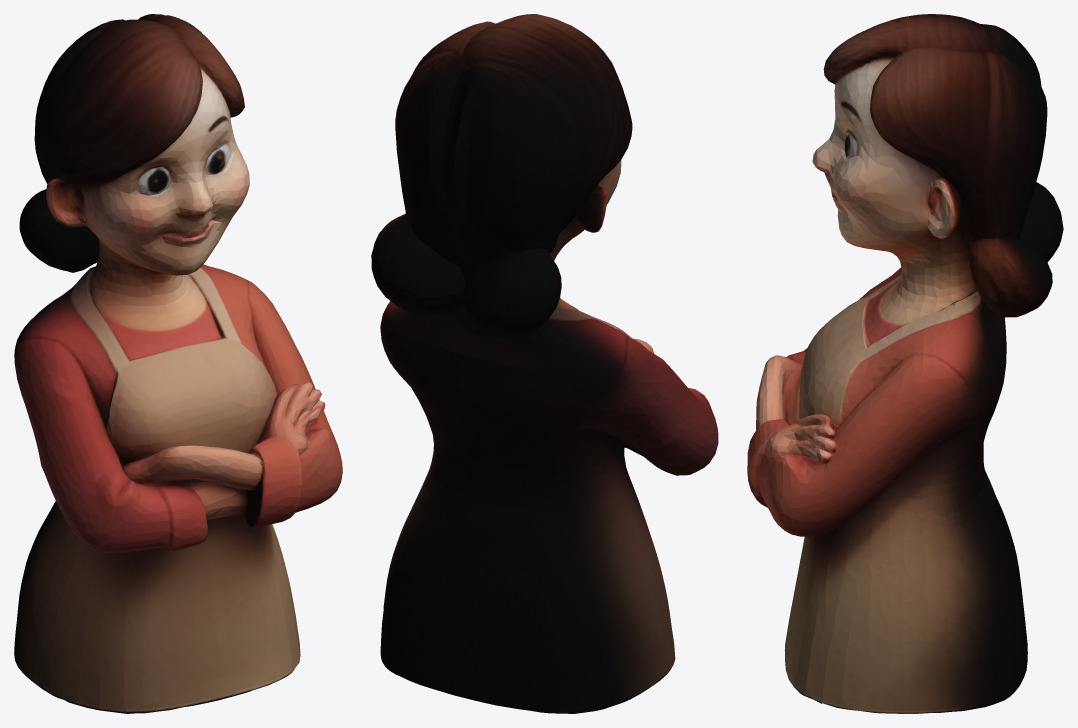
File: ima.glb
3 renders of one model, left to right at view 1: azimuth 30°, elevation 25°; view 2: azimuth 150°, elevation 25°; view 3: azimuth 270°, elevation 25°, orthographic. The views are drawn at different scales.
Visible parts, largest first — view 1: world; view 2: world; view 3: world.
Part boxes in pixels (<box>): world: <box>14,14,342,713</box>; world: <box>371,14,718,713</box>; world: <box>747,14,1063,713</box>.
Size of the model in its own units: 0.4571 by 1 by 0.4525.
1 material, 1 textured.
